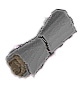scroll2: (1, 1, 81, 85)
